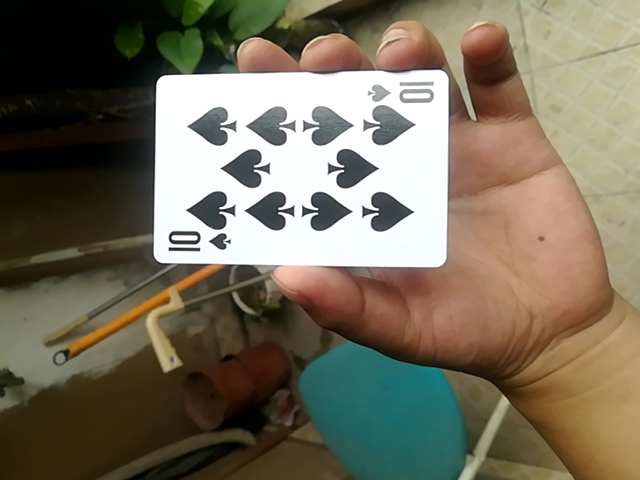ht 10: (146, 68, 452, 271)
